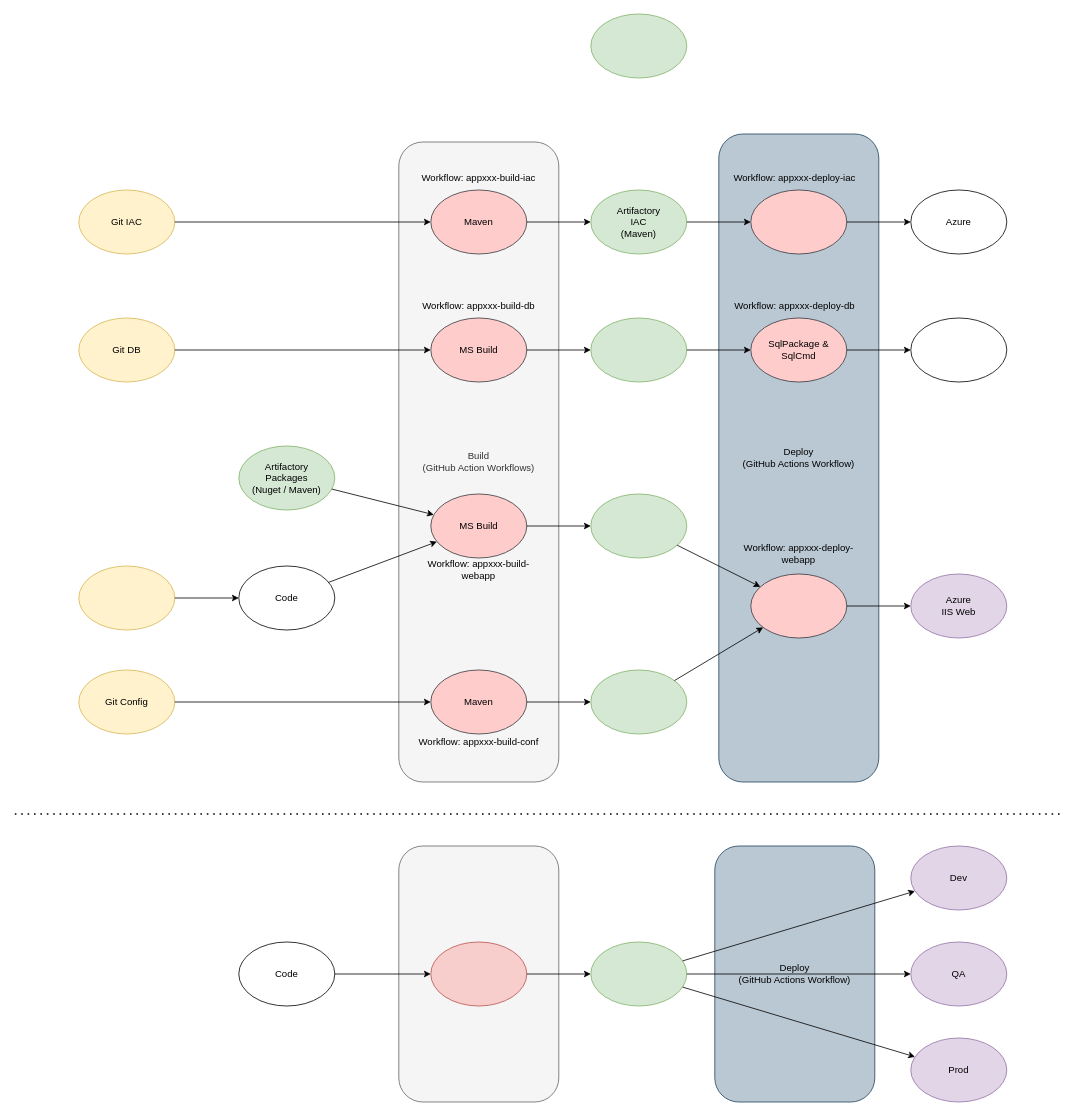
Image size: 1078x1116. Some labels were removed from this diagram. The shapes that lost their labels are listed below. From the top down, each one's centre as x and y in pixels, then its label:
pixel 638 45: Artifactory CICD Pipeline Cache (Maven)
pixel 798 221: Terraform
pixel 638 349: Artifactory DB (Maven)
pixel 958 349: Database
pixel 638 525: Artifactory Deploy (Nuget)
pixel 126 597: Git Code
pixel 798 605: Az
pixel 638 701: Artifactory Config (Maven)
pixel 478 973: Build
pixel 638 973: Artifact
